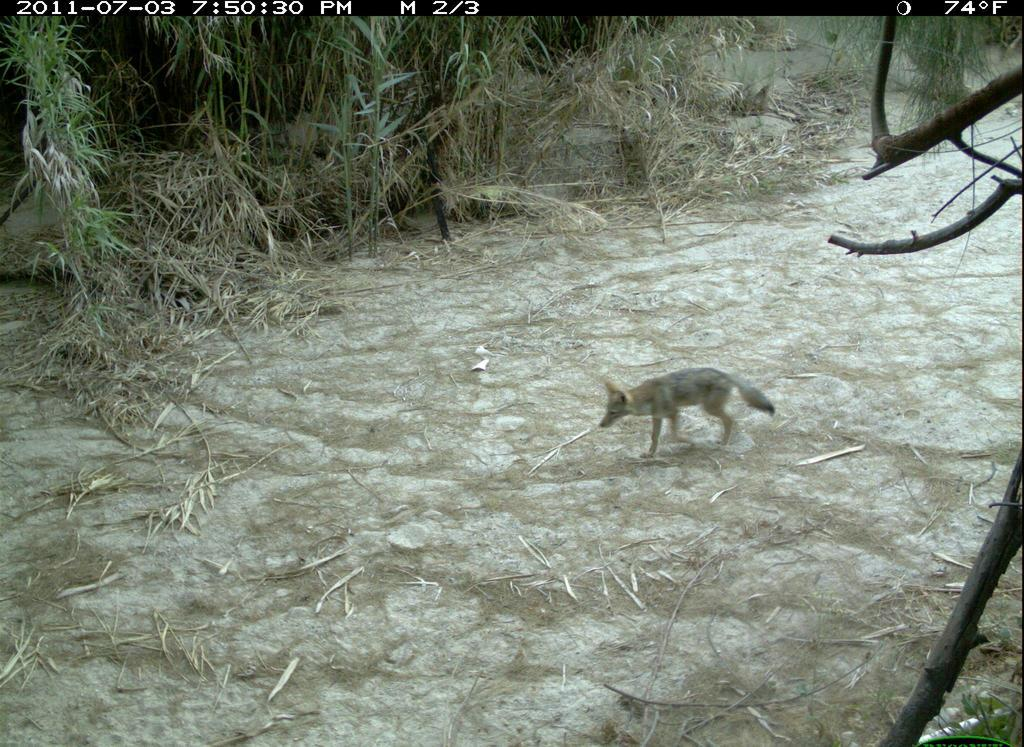coyote: (594, 361, 785, 464)
